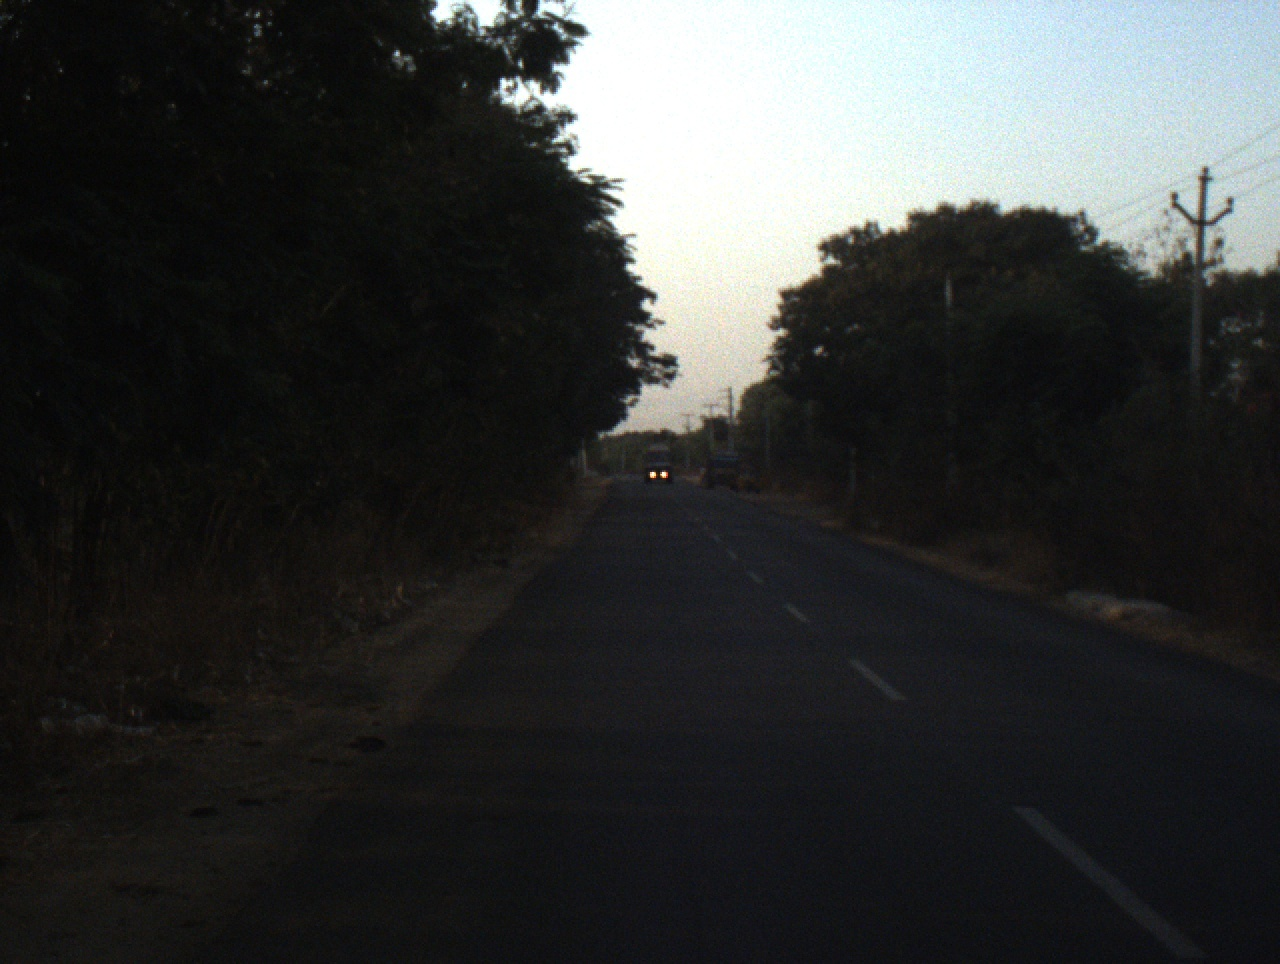truck: (702, 414, 739, 495), (641, 439, 674, 487)
